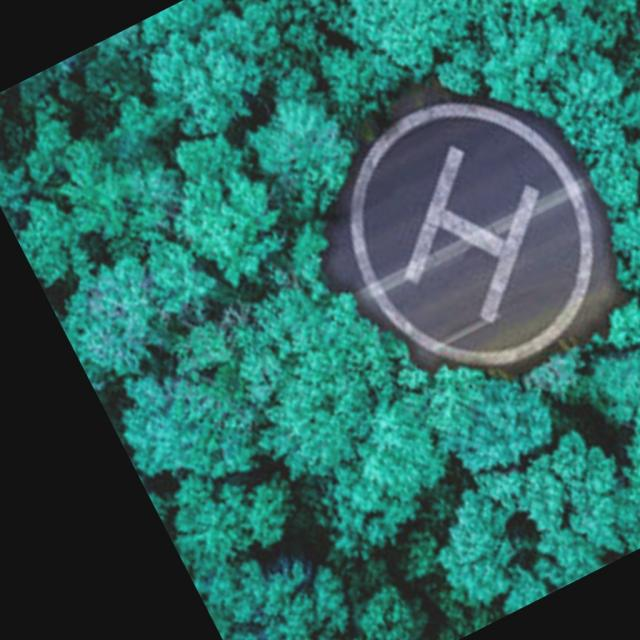helipad: (346, 92, 600, 370)
